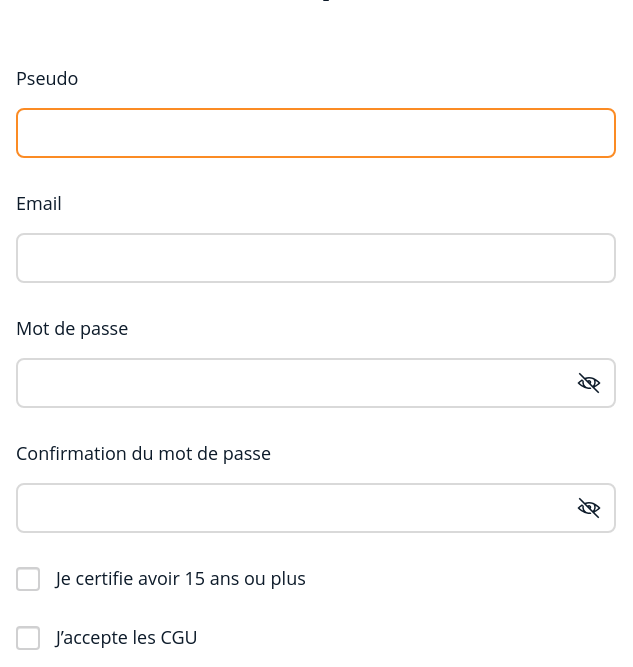
Test: Signup Form › should not submit if the confirm password is empty
In the field labelled "Pseudo": point(316, 133) [16,108,616,158], type "John"
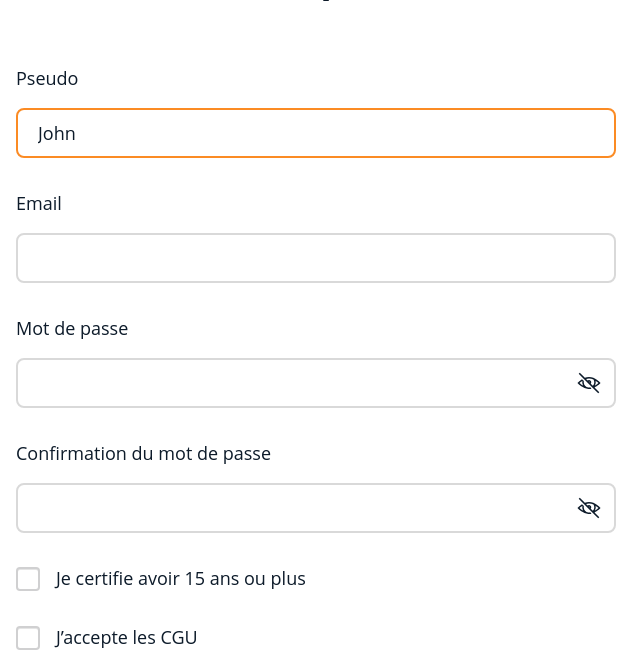
In the field labelled "Email": point(316, 258) [16,233,616,283], type "john.doe@gmail.com"
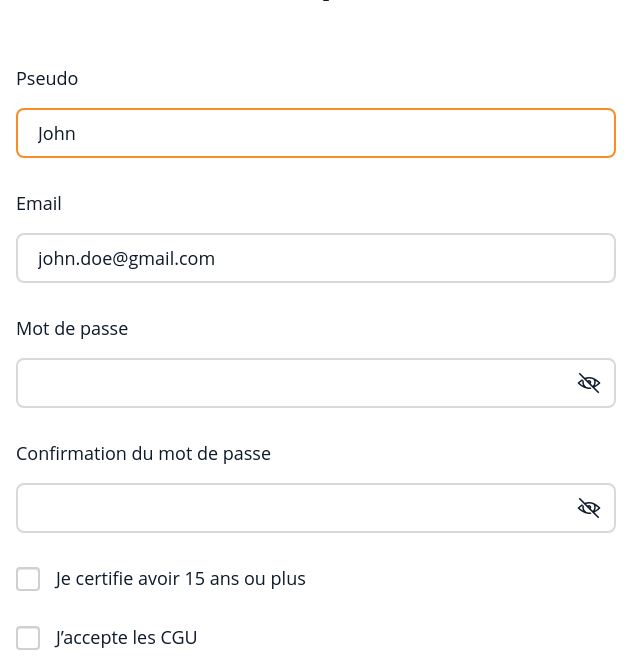
In the password field labelled "Mot de passe": point(316, 383) [16,358,616,408], type "Azerty123!!!"
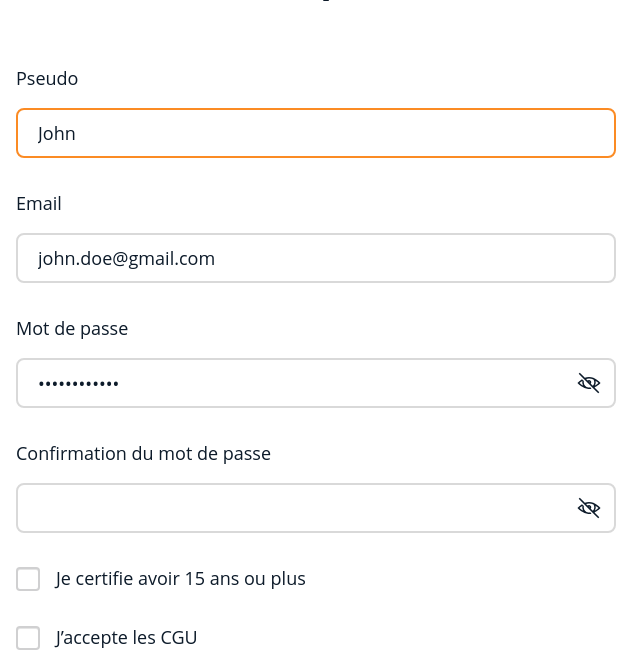
Clear the password field labelled "Confirmation du mot de passe": point(316, 508) [16,483,616,533]
(page scrolled)
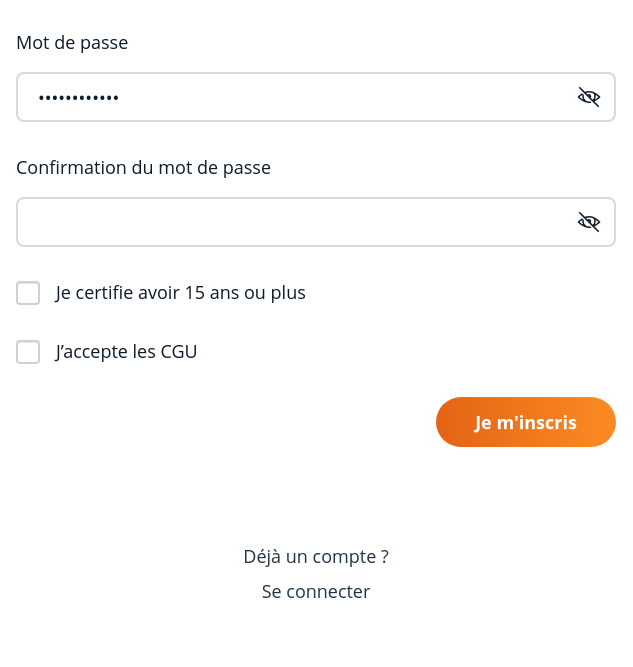
Click the button "Je m'inscris": point(526, 422) [436,397,616,447]
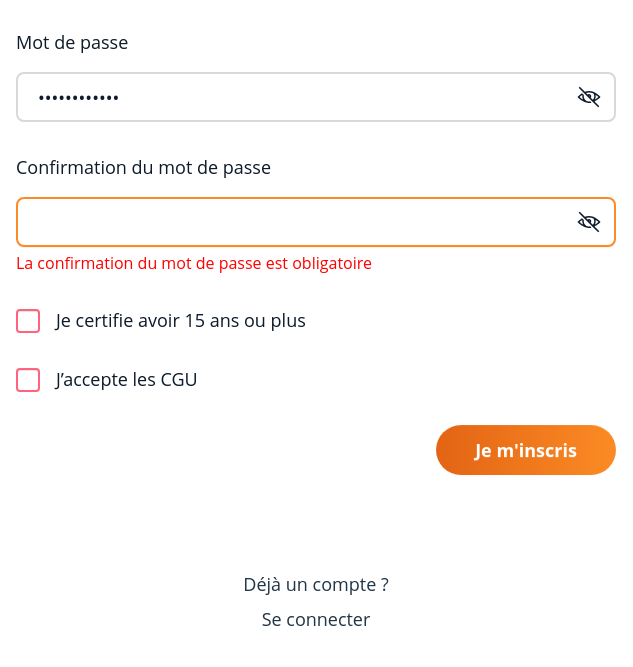
expect the message "La confirmation du mot de passe est obligatoire" is shown: met, box [16,252,372,274]
